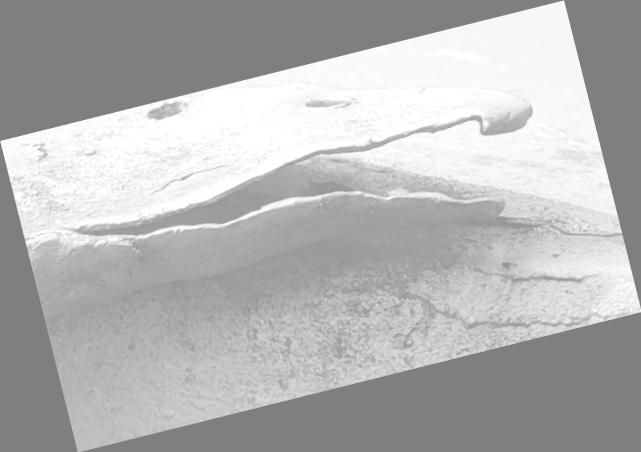crack: (1, 1, 641, 452)
